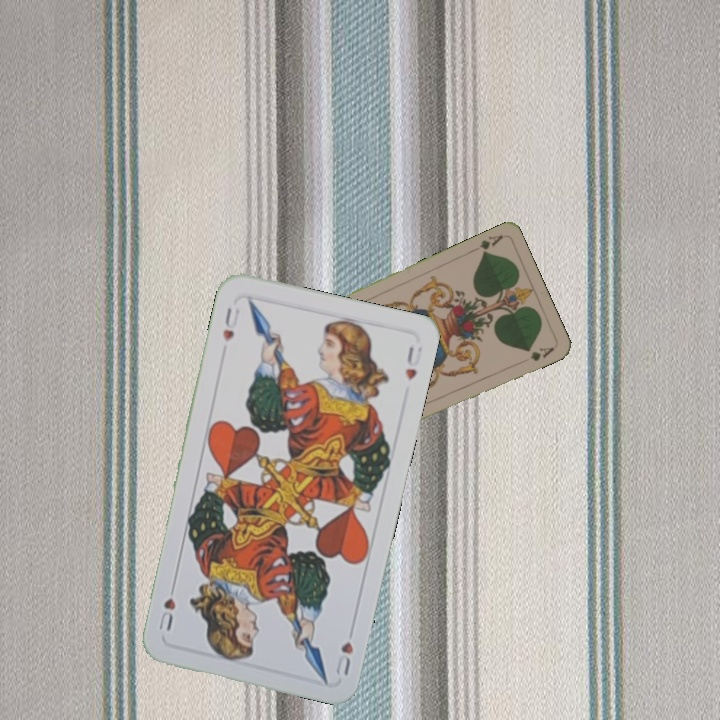GA: (475, 231, 506, 257)
HU: (218, 303, 243, 344), (331, 638, 356, 679)
